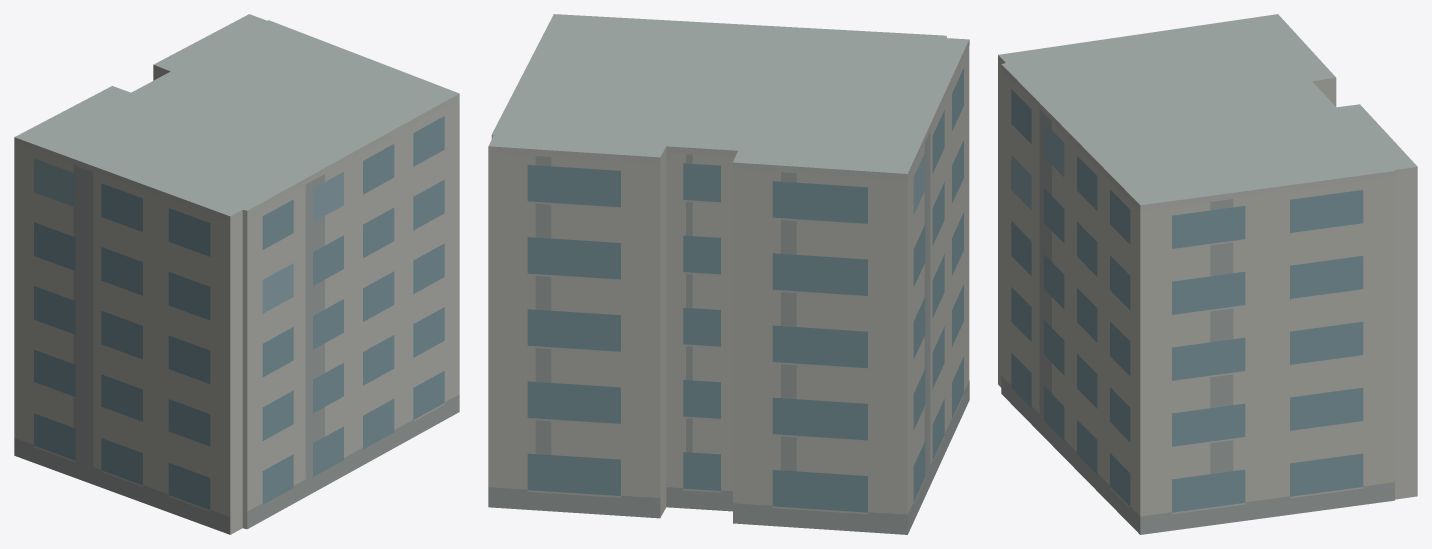
Rendered from survey-upis-32941528.glb.
3 renders of one model, left to right at view 1: azimuth 30°, elevation 25°; view 2: azimuth 150°, elevation 25°; view 3: azimuth 270°, elevation 25°, orthographic. The views are drawn at different scales.
Parts seen in each view (by area): view 1: survey-upis-32941528.tmp; view 2: survey-upis-32941528.tmp; view 3: survey-upis-32941528.tmp.
Part boxes in pixels (box(x1,y1,x2,y2)): survey-upis-32941528.tmp: box(14, 14, 459, 534); survey-upis-32941528.tmp: box(488, 14, 969, 534); survey-upis-32941528.tmp: box(998, 14, 1417, 534).
Size of the model in its own units: 16.44 by 13.2 by 15.24.
